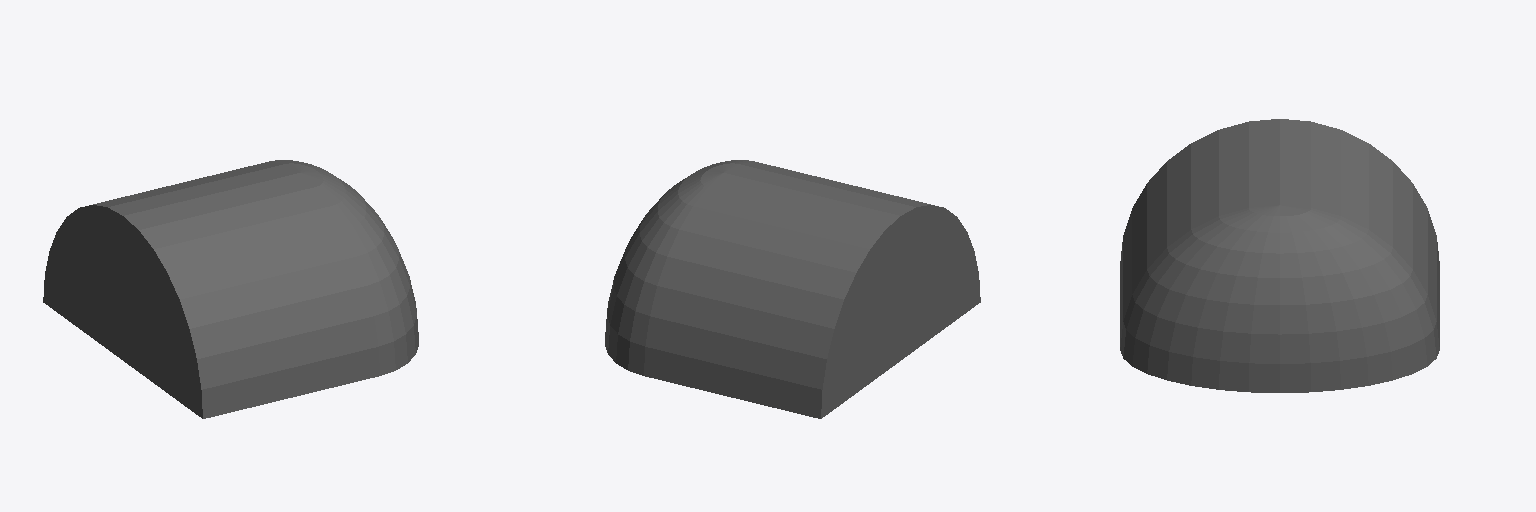
Rendered from tunnel.obj.
3 views of the same model, side by side, from view 1: azimuth 30°, elevation 25°; view 2: azimuth 150°, elevation 25°; view 3: azimuth 270°, elevation 25° (orthographic).
Parts seen in each view (by area): view 1: Tunnel; view 2: Tunnel; view 3: Tunnel.
Part boxes in pixels (bbox=[...]): Tunnel: bbox=[43, 160, 418, 418]; Tunnel: bbox=[605, 160, 980, 418]; Tunnel: bbox=[1120, 119, 1439, 392].
Size of the model in its own units: 12 by 6.25 by 12.5.